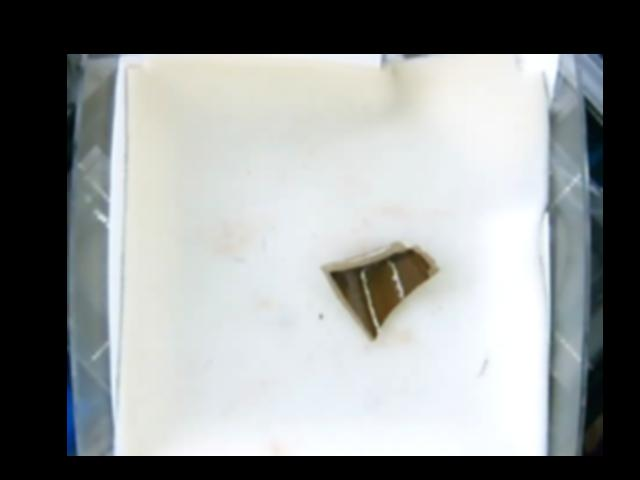China: (320, 238, 439, 339)
